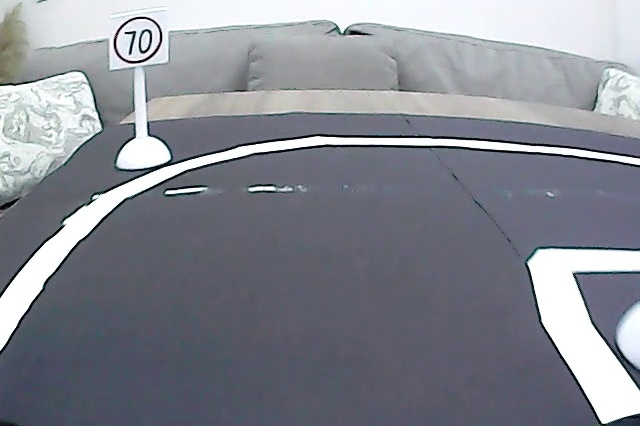speed limit 70: (110, 12, 165, 68)
